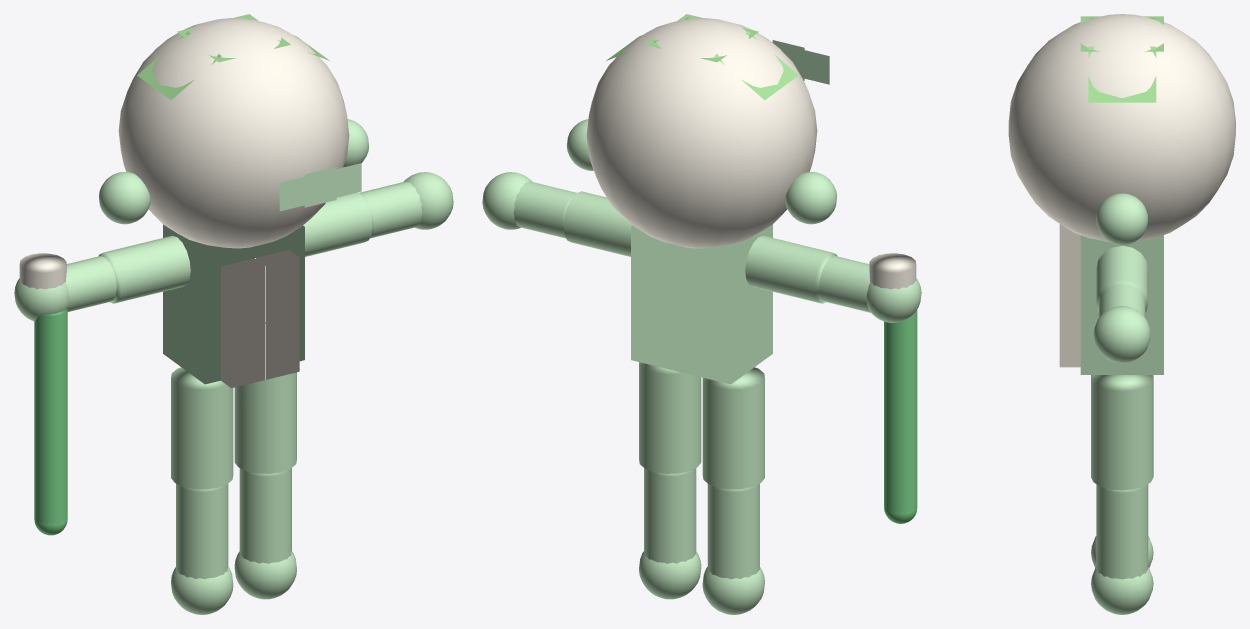
The model's file is zhuyu_chibi.glb.
The picture shows the model from 3 angles, left to right: view 1: azimuth 30°, elevation 25°; view 2: azimuth 150°, elevation 25°; view 3: azimuth 270°, elevation 25°; orthographic projection.
Visible parts, largest first — view 1: part_22, part_24, part_23, part_31, part_29, part_30, part_32, part_27, part_25, part_26, part_28, part_45 (+14 smaller); view 2: part_22, part_23, part_31, part_29, part_30, part_32, part_27, part_25, part_26, part_28, part_45, part_35 (+11 smaller); view 3: part_22, part_29, part_23, part_30, part_24, part_33, part_44, part_25, part_35, part_26, part_38.
Part boxes in pixels (<box>): part_22: <box>118,18,349,248</box>; part_24: <box>221,250,299,388</box>; part_23: <box>163,224,304,384</box>; part_31: <box>171,367,233,489</box>; part_29: <box>234,372,296,473</box>; part_30: <box>239,468,291,563</box>; part_32: <box>176,483,228,579</box>; part_27: <box>98,235,190,303</box>; part_25: <box>303,192,372,256</box>; part_26: <box>359,181,422,238</box>; part_28: <box>65,256,116,311</box>; part_45: <box>99,172,150,224</box>; part_22: <box>586,18,817,248</box>; part_23: <box>631,224,772,384</box>; part_31: <box>702,367,764,489</box>; part_29: <box>639,362,701,473</box>; part_30: <box>644,468,696,563</box>; part_32: <box>707,483,759,579</box>; part_27: <box>745,235,837,303</box>; part_25: <box>563,191,632,256</box>; part_26: <box>513,181,576,238</box>; part_28: <box>819,256,870,312</box>; part_45: <box>785,172,836,224</box>; part_35: <box>639,551,701,599</box>; part_22: <box>1008,14,1235,241</box>; part_29: <box>1091,375,1153,490</box>; part_23: <box>1080,235,1163,374</box>; part_30: <box>1096,484,1148,579</box>; part_24: <box>1059,224,1080,367</box>; part_33: <box>1093,306,1150,363</box>; part_44: <box>1096,193,1148,245</box>; part_25: <box>1096,246,1148,312</box>; part_35: <box>1091,567,1153,614</box>; part_26: <box>1098,283,1145,317</box>; part_38: <box>1088,46,1156,102</box>.
Bounding box in the file's own units: 0.95 × 1.21 × 0.5478.
